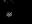person: (5, 13, 13, 18), (3, 1, 8, 4), (10, 1, 13, 4)
